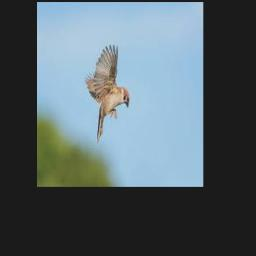Sparrow: (85, 45, 130, 143)
